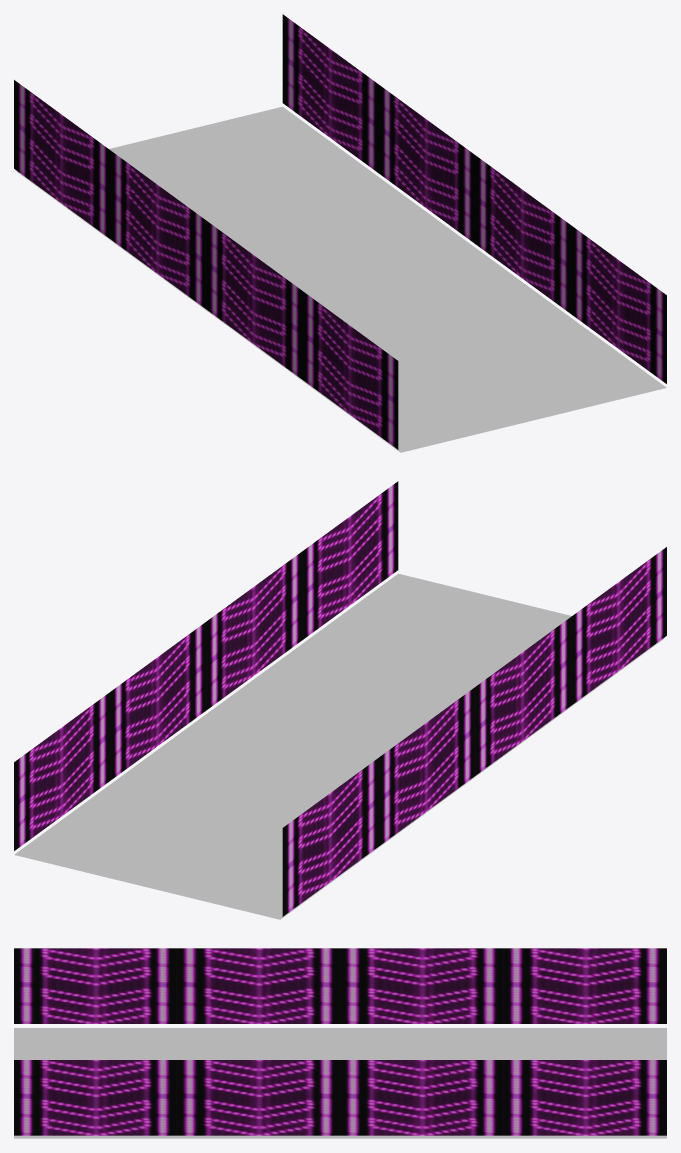
Rendered from road_sign_forvard.FBX.
3 views of the same model, one above another, from view 1: azimuth 30°, elevation 25°; view 2: azimuth 150°, elevation 25°; view 3: azimuth 270°, elevation 25° (orthographic). The views are drawn at different scales.
Visible parts, largest first — view 1: Loft006, sign; view 2: Loft006, sign; view 3: sign, Loft006.
Boxes of the visible parts, bbox=[...] form: Loft006: bbox=[16, 106, 666, 452]; sign: bbox=[14, 14, 666, 449]; Loft006: bbox=[14, 573, 664, 919]; sign: bbox=[14, 481, 666, 916]; sign: bbox=[14, 948, 666, 1135]; Loft006: bbox=[14, 1028, 666, 1138].
Size of the model in its own units: 40.37 by 100 by 13.28.
